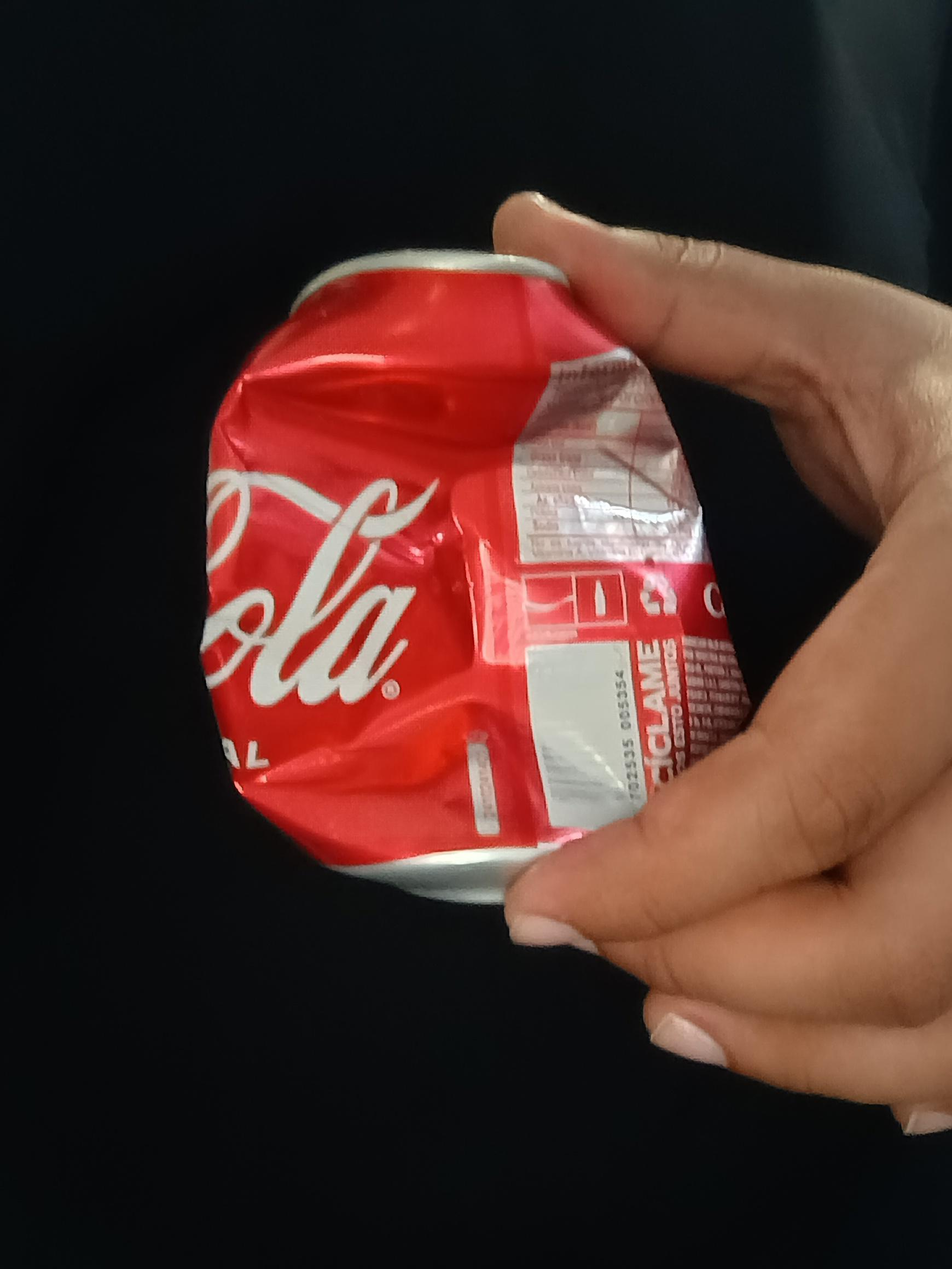Metal: (202, 248, 751, 904)
